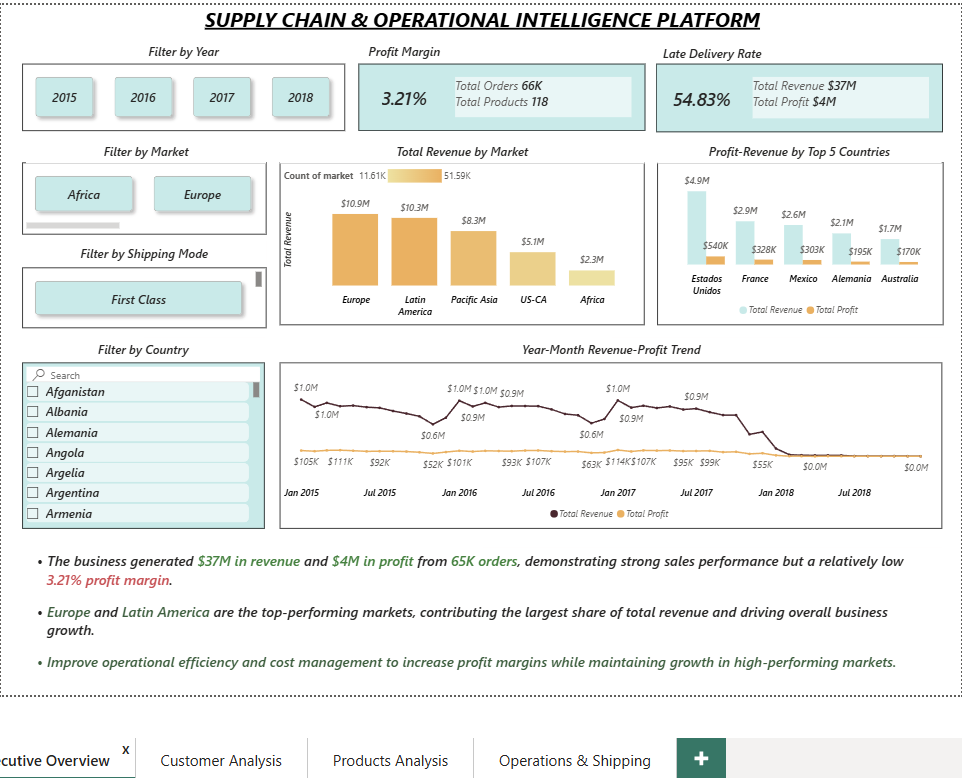

This screenshot's page, from the dashboard's own definition file:
{"tool":"powerbi","page":{"name":"Executive Overview","canvas":[1920,1080],"ordinal":1},"visuals":[{"type":"actionButton","title":"Close Button Cover","box":[464,0,1456,1078],"z":0,"group":"g2"},{"type":"actionButton","title":"Revenue Button","box":[116,106,268,80],"z":0},{"type":"actionButton","title":"Operations & Shippings","box":[76,478,344,60],"z":0,"group":"g1"},{"type":"actionButton","title":"Close Button","box":[464,0,80,80],"z":1000,"group":"g2"},{"type":"actionButton","title":"Profit Button","box":[390.7,106,268,80],"z":1000},{"type":"actionButton","title":"Product Analysis","box":[76,389.5,344,60],"z":1000,"group":"g1"},{"type":"shape","title":"Page Navigation (Menu Bar)","box":[106,0,360,1078],"z":2000,"group":"g2"},{"type":"pivotTable","fields":{"Values":["Sum(gold fact_orders_cleaned_v2.sales)","Sum(gold fact_orders_cleaned_v2.order_profit_per_order)","Sum(gold fact_orders_cleaned_v2.order_item_discount)","Measure's Table.YoY Discount %"],"Rows":["gold fact_orders_cleaned_v2.order_date.Variation.Date Hierarchy.Year"]},"box":[1140,206,758,280],"z":2000},{"type":"actionButton","title":"Customer Analysis","box":[76,301,344,60],"z":2000,"group":"g1"},{"type":"group","id":"g1","title":"Pages","box":[76,124,344,414],"z":3000,"group":"g2"},{"type":"actionButton","title":"Executive Overview","box":[76,212.5,344,60],"z":3000,"group":"g1"},{"type":"actionButton","title":"Home","box":[76,124,344,60],"z":4000,"group":"g1"},{"type":"lineChart","title":"Year On Year Profit Trend","fields":{"Y":["Measure's Table.YoY %"],"Category":["gold fact_orders_cleaned_v2.order_date.Variation.Date Hierarchy.Year","gold fact_orders_cleaned_v2.order_date.Variation.Date Hierarchy.Quarter"]},"box":[132,392,976,294],"z":4000},{"type":"clusteredColumnChart","title":"Profit by Country","fields":{"Category":["gold fact_orders_cleaned_v2.order_country"],"Y":["Measure's Table.Total Profit"]},"box":[132,704,976,352],"z":5000},{"type":"clusteredColumnChart","title":"Profit by Market","fields":{"Category":["gold fact_orders_cleaned_v2.market"],"Y":["Measure's Table.Total Profit"]},"box":[1132,508,766,548],"z":8000},{"type":"cardVisual","title":"Total Profit Card","fields":{"Data":["Executive Measure.Total Profit"]},"box":[620,186,504,206],"z":8500},{"type":"textbox","box":[250,18,306,60],"z":9000},{"type":"image","box":[198,28,54,40],"z":10000},{"type":"slicer","fields":{"Values":["gold fact_orders_cleaned_v2.order_date.Variation.Date Hierarchy.Year"]},"box":[1517.3,106,194,80],"z":11000},{"type":"slicer","fields":{"Values":["gold fact_orders_cleaned_v2.order_date.Variation.Date Hierarchy.Month"]},"box":[1718,106,194,80],"z":12000},{"type":"slicer","fields":{"Values":["gold fact_orders_cleaned_v2.market"]},"box":[1230.7,106,280,80],"z":13000},{"type":"slicer","fields":{"Values":["gold fact_orders_cleaned_v2.shipping_mode"]},"box":[944,106,280,80],"z":14000},{"type":"slicer","fields":{"Values":["gold fact_orders_cleaned_v2.order_country"]},"box":[665.3,106,272,80],"z":15000},{"type":"cardVisual","title":"Profit Margin Card","fields":{"Data":["Executive Measure.Profit Margin %"]},"box":[116,188,504,204],"z":18000},{"type":"group","id":"g2","title":"Menu Objects","box":[76,0,1844,1078],"z":20250},{"type":"actionButton","title":"Menu Button","box":[15,7,60,60],"z":20500}]}

Visuals, with their boxes on the page's 1920x1080 design canvas (x1, y1, x2, y2). These are canvas units, not pixel positions in the 962x778 screenshot, which may show the page scaled, cropped or inside an application window:
"Close Button Cover" actionButton: {"left": 464, "top": 0, "right": 1920, "bottom": 1078}
"Revenue Button" actionButton: {"left": 116, "top": 106, "right": 384, "bottom": 186}
"Operations & Shippings" actionButton: {"left": 76, "top": 478, "right": 420, "bottom": 538}
"Close Button" actionButton: {"left": 464, "top": 0, "right": 544, "bottom": 80}
"Profit Button" actionButton: {"left": 391, "top": 106, "right": 659, "bottom": 186}
"Product Analysis" actionButton: {"left": 76, "top": 390, "right": 420, "bottom": 450}
"Page Navigation (Menu Bar)" shape: {"left": 106, "top": 0, "right": 466, "bottom": 1078}
pivotTable - Sum(gold fact_orders_cleaned_v2.sales) x Sum(gold fact_orders_cleaned_v2.order_profit_per_order): {"left": 1140, "top": 206, "right": 1898, "bottom": 486}
"Customer Analysis" actionButton: {"left": 76, "top": 301, "right": 420, "bottom": 361}
"Pages" group: {"left": 76, "top": 124, "right": 420, "bottom": 538}
"Executive Overview" actionButton: {"left": 76, "top": 212, "right": 420, "bottom": 272}
"Home" actionButton: {"left": 76, "top": 124, "right": 420, "bottom": 184}
"Year On Year Profit Trend" lineChart: {"left": 132, "top": 392, "right": 1108, "bottom": 686}
"Profit by Country" clusteredColumnChart: {"left": 132, "top": 704, "right": 1108, "bottom": 1056}
"Profit by Market" clusteredColumnChart: {"left": 1132, "top": 508, "right": 1898, "bottom": 1056}
"Total Profit Card" cardVisual: {"left": 620, "top": 186, "right": 1124, "bottom": 392}
textbox: {"left": 250, "top": 18, "right": 556, "bottom": 78}
image: {"left": 198, "top": 28, "right": 252, "bottom": 68}
slicer - gold fact_orders_cleaned_v2.order_date.Variation.Date Hierarchy.Year: {"left": 1517, "top": 106, "right": 1711, "bottom": 186}
slicer - gold fact_orders_cleaned_v2.order_date.Variation.Date Hierarchy.Month: {"left": 1718, "top": 106, "right": 1912, "bottom": 186}
slicer - gold fact_orders_cleaned_v2.market: {"left": 1231, "top": 106, "right": 1511, "bottom": 186}
slicer - gold fact_orders_cleaned_v2.shipping_mode: {"left": 944, "top": 106, "right": 1224, "bottom": 186}
slicer - gold fact_orders_cleaned_v2.order_country: {"left": 665, "top": 106, "right": 937, "bottom": 186}
"Profit Margin Card" cardVisual: {"left": 116, "top": 188, "right": 620, "bottom": 392}
"Menu Objects" group: {"left": 76, "top": 0, "right": 1920, "bottom": 1078}
"Menu Button" actionButton: {"left": 15, "top": 7, "right": 75, "bottom": 67}
